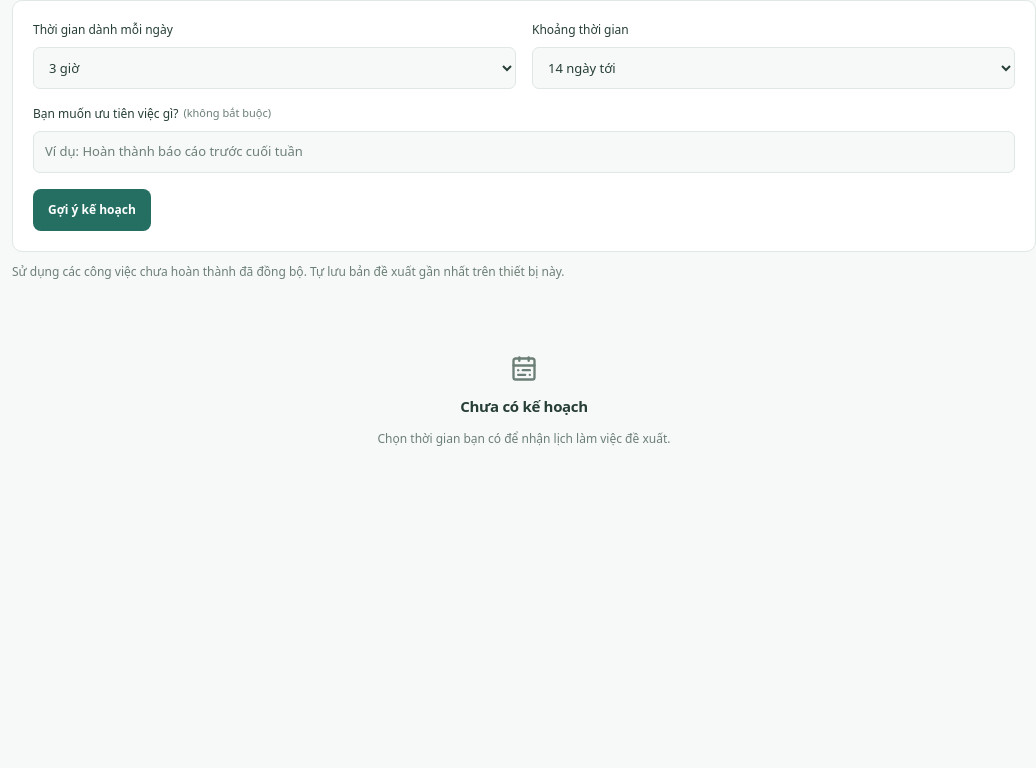
Scenario: PlanningAssistant › hiển thị cảnh báo khi AI dùng ước lượng dự phòng
The image size is (1036, 768).
Click the button "Gợi ý kế hoạch" at x=92, y=210, box [33,189,151,231]
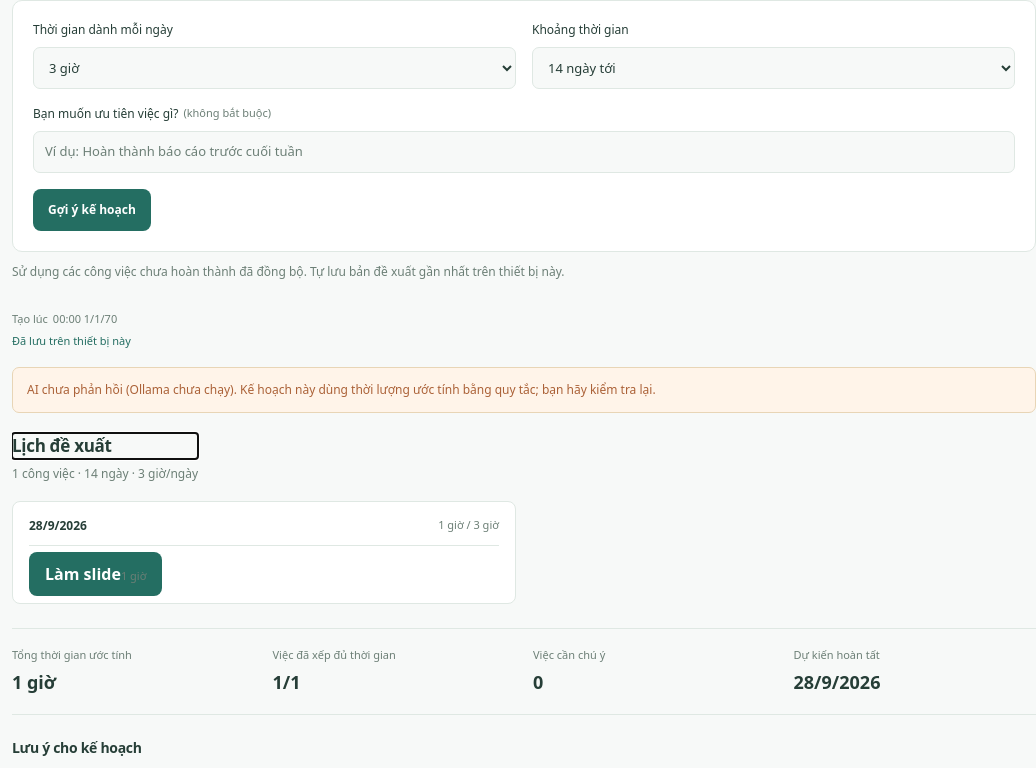
Now the text "AI chưa phản hồi" is shown, box [27,381,130,398]
Now the text "thời lượng ước tính bằng quy tắc" is shown, box [230,381,656,398]
